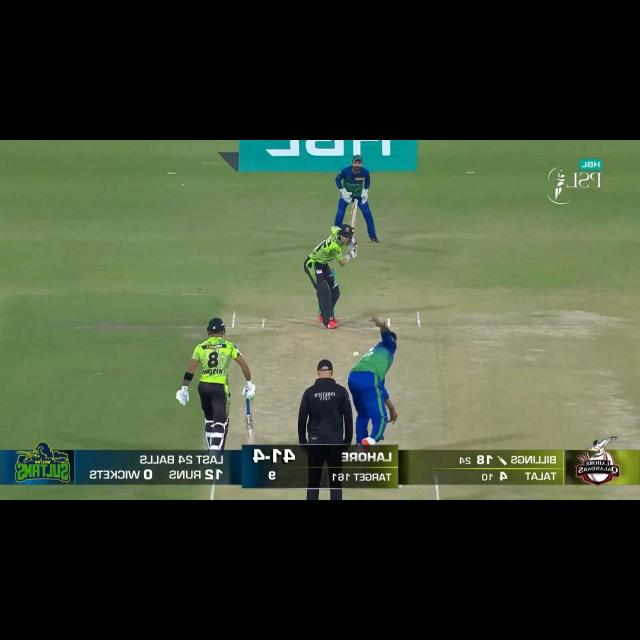bat: (349, 194, 359, 238), (246, 415, 256, 444)
toe: (348, 195, 359, 206)
